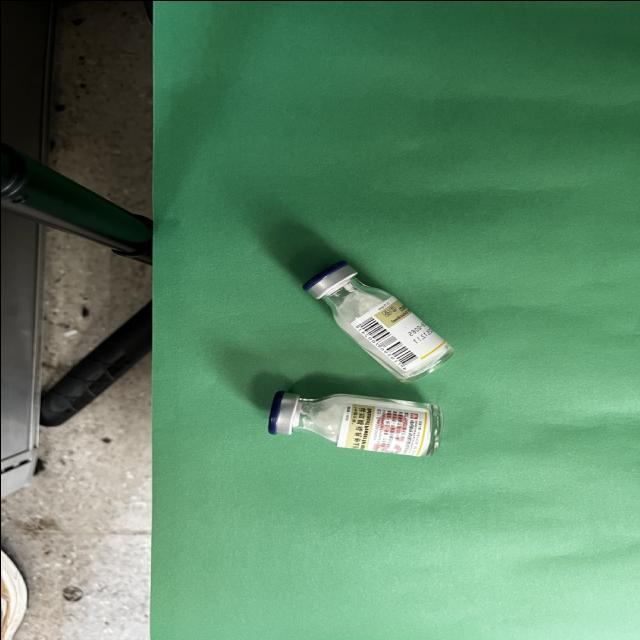Vials: (302, 261, 452, 381), (269, 390, 441, 456)
